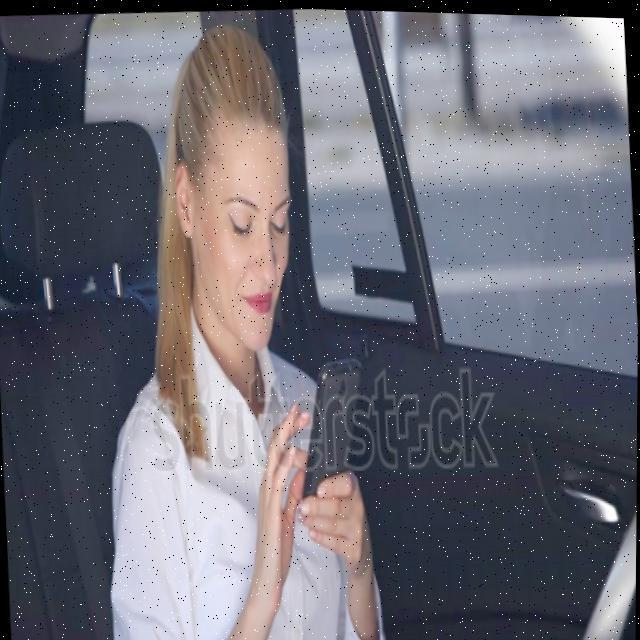PhoneCall: (296, 354, 367, 511)
